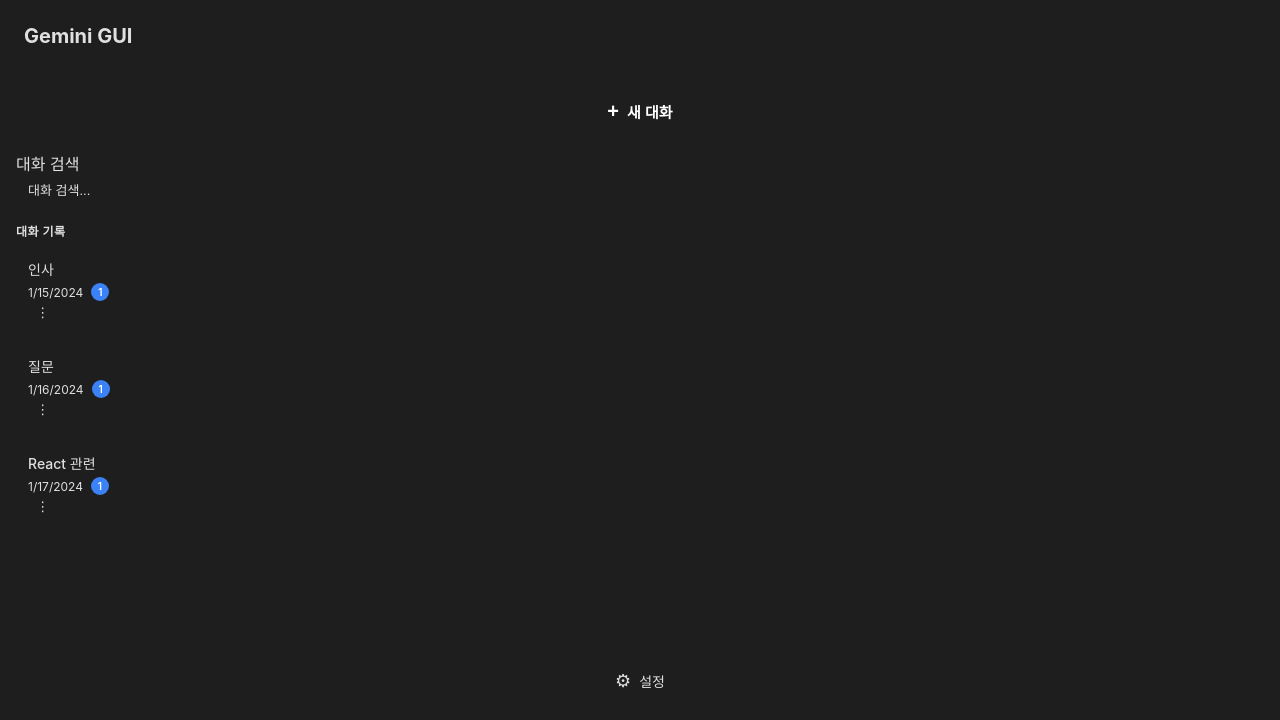
Test case: Sidebar › Search › filters conversations by message content
In the field with placeholder "대화 검색...": (640, 190) [16, 175, 1264, 206], type "React"
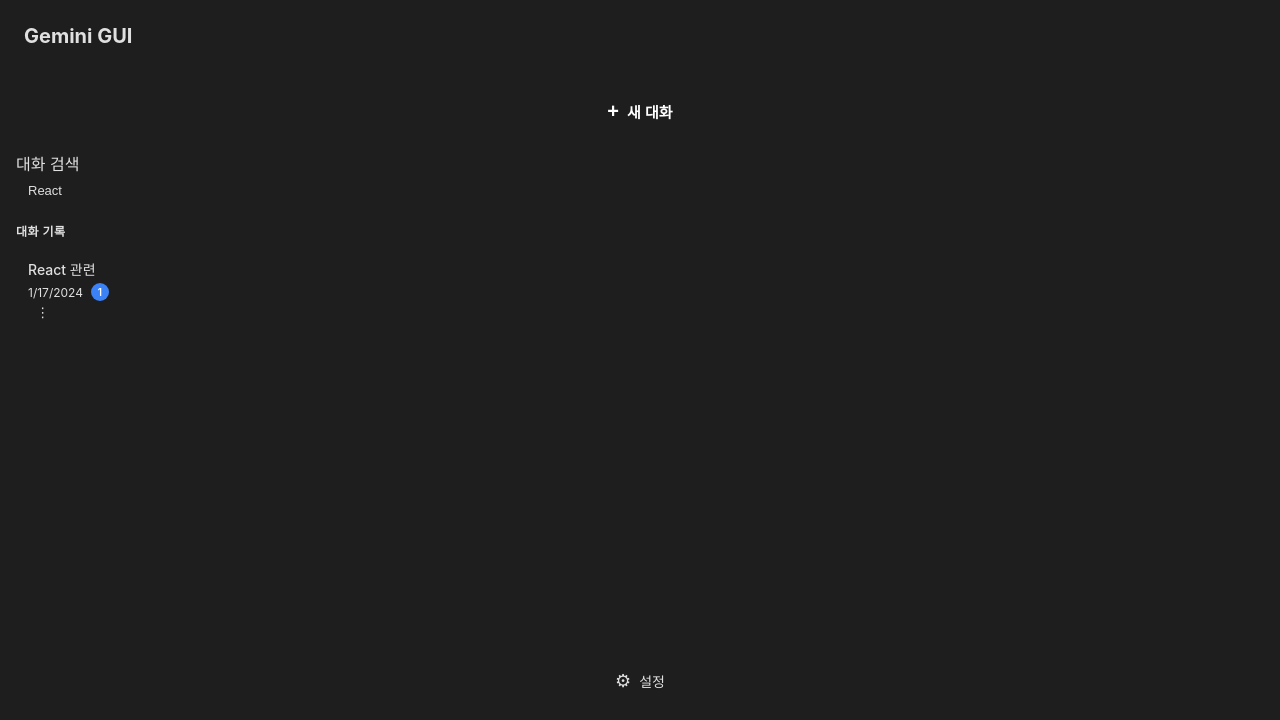
Check: the text "React 관련" is shown, box [28, 261, 96, 278]
Check: the text "인사" is gone
Check: the text "질문" is gone
